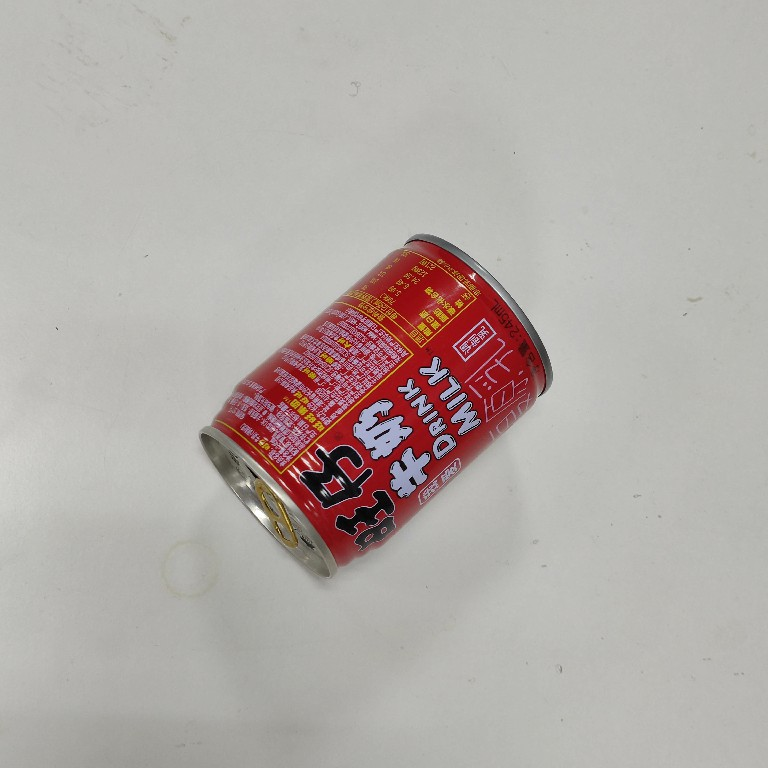can: (194, 230, 557, 588)
